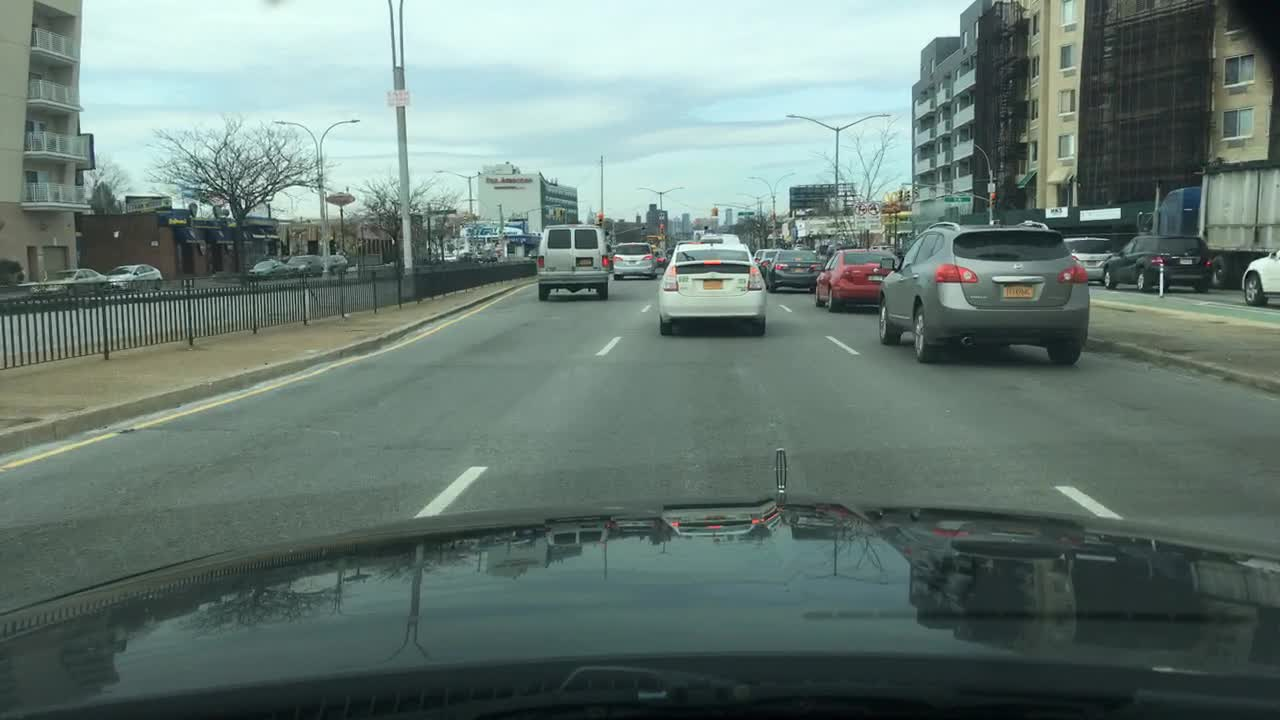car: (874, 221, 1090, 368), (653, 241, 768, 332), (1098, 233, 1213, 293), (533, 226, 611, 302), (815, 246, 901, 314), (27, 266, 104, 299), (766, 253, 822, 295), (1240, 246, 1279, 305), (1066, 233, 1110, 283), (104, 261, 163, 293), (611, 239, 658, 278), (246, 253, 287, 280), (287, 251, 324, 275), (698, 228, 741, 243), (757, 248, 779, 273), (327, 251, 347, 273), (474, 248, 499, 263), (435, 250, 457, 265), (455, 248, 476, 260), (749, 245, 764, 260)
traffic light: (903, 185, 913, 202), (708, 204, 719, 218), (594, 209, 604, 224)
traffic sign: (941, 192, 970, 206), (735, 207, 754, 219)
truck: (1137, 158, 1279, 287)
